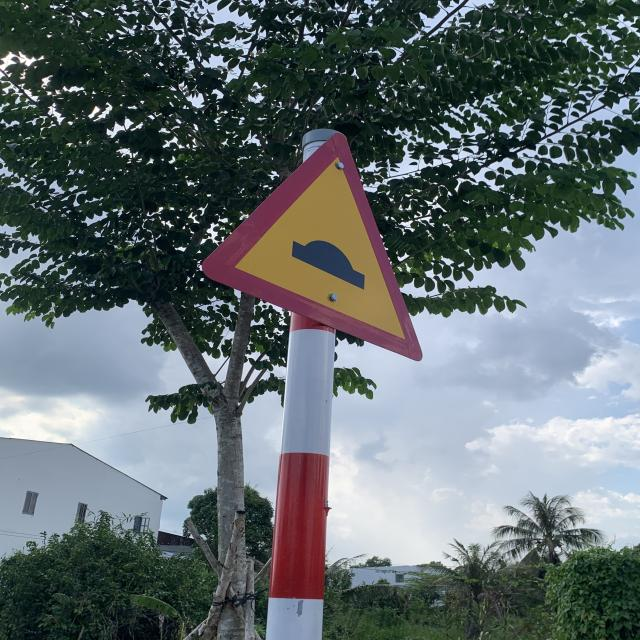Duong_Cong_Ben_Phai: (200, 134, 430, 364)
